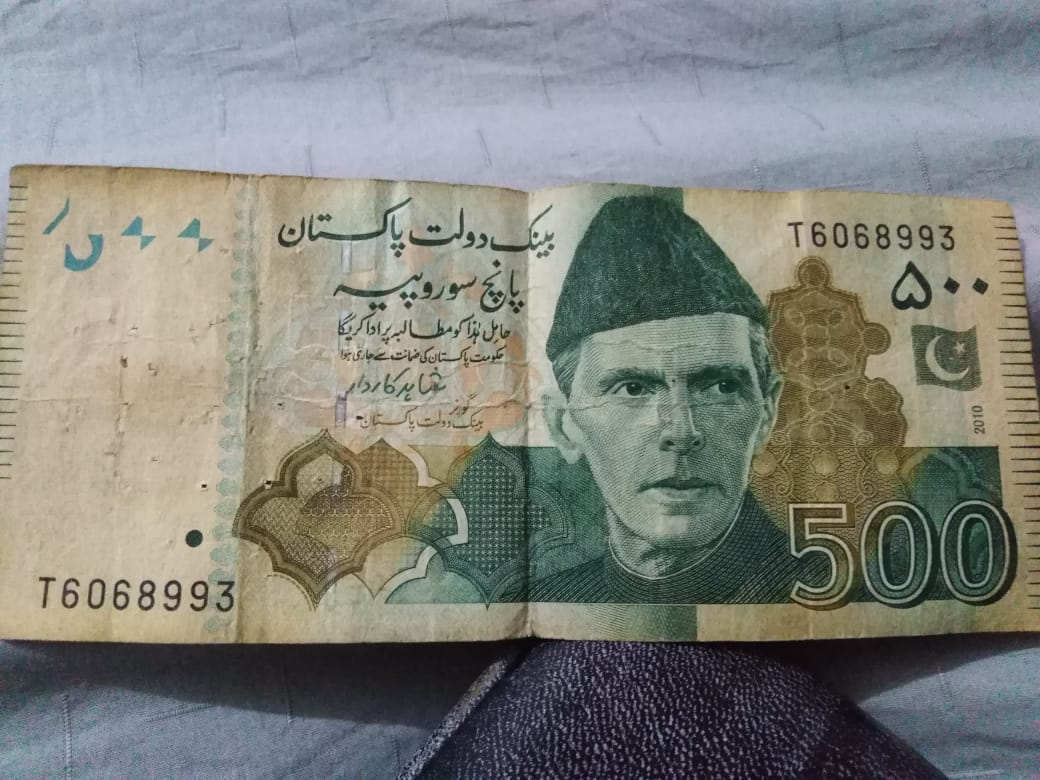500 rupee: (12, 151, 1031, 649)
